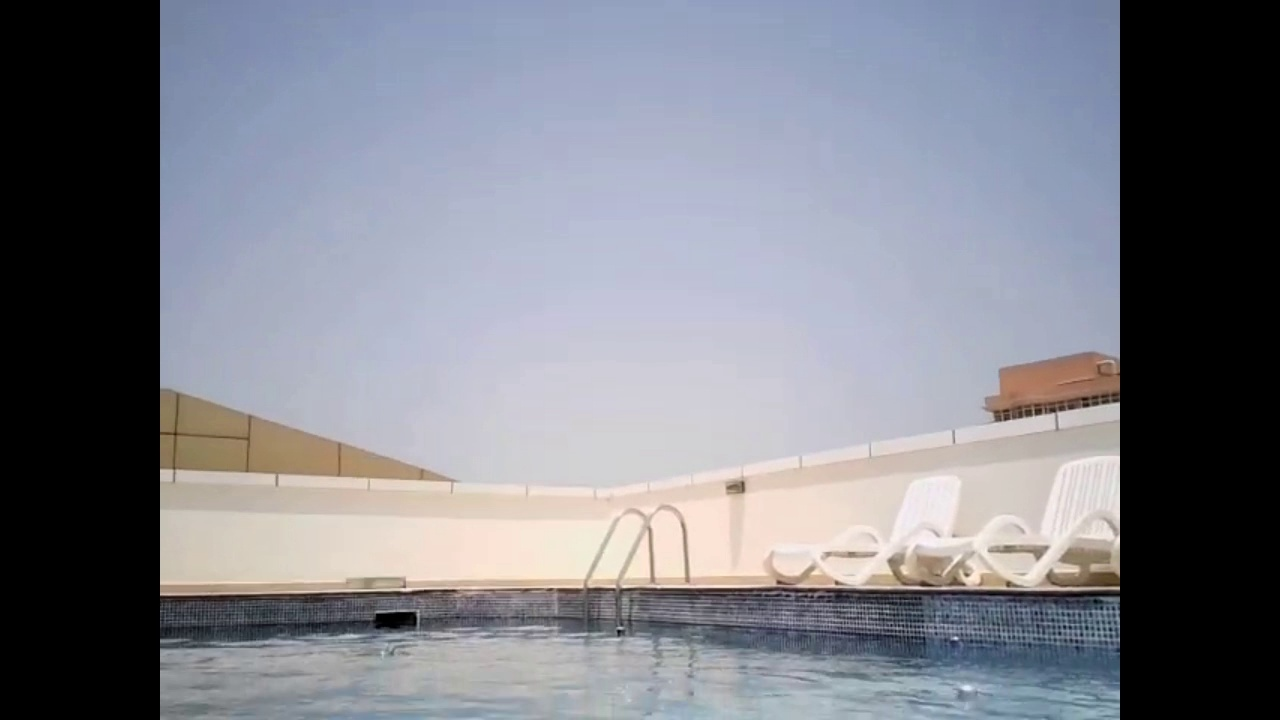debris: (951, 682, 983, 711), (377, 642, 398, 663), (611, 622, 630, 642), (945, 632, 965, 650)
